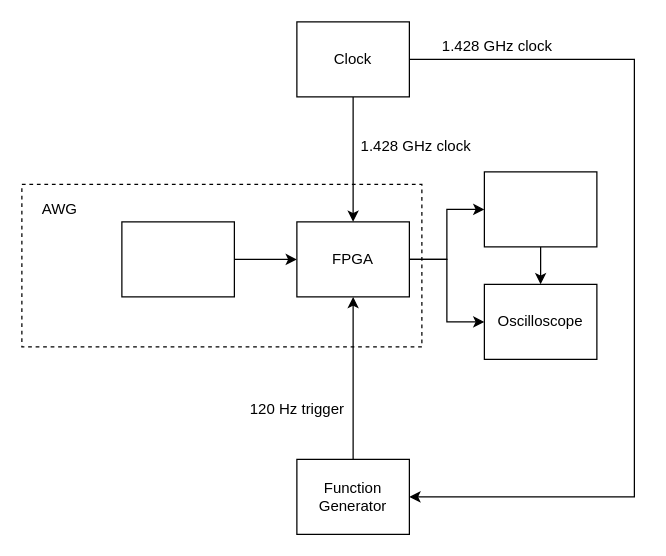
Image size: 666x556. Some labels were removed from this diagram. The centre of each missing label's shape, as x and y in pixels:
"Amplifier" belongs at point 540,209.
"Windows 10" belongs at point 177,259.
